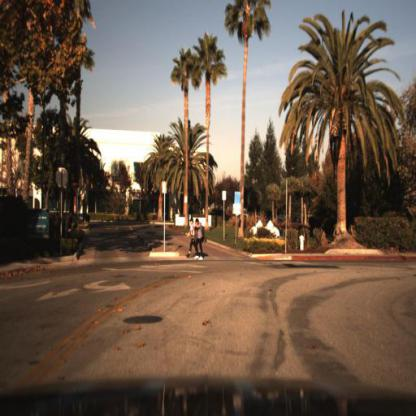pedestrian: (196, 214, 207, 263), (188, 216, 197, 261)
